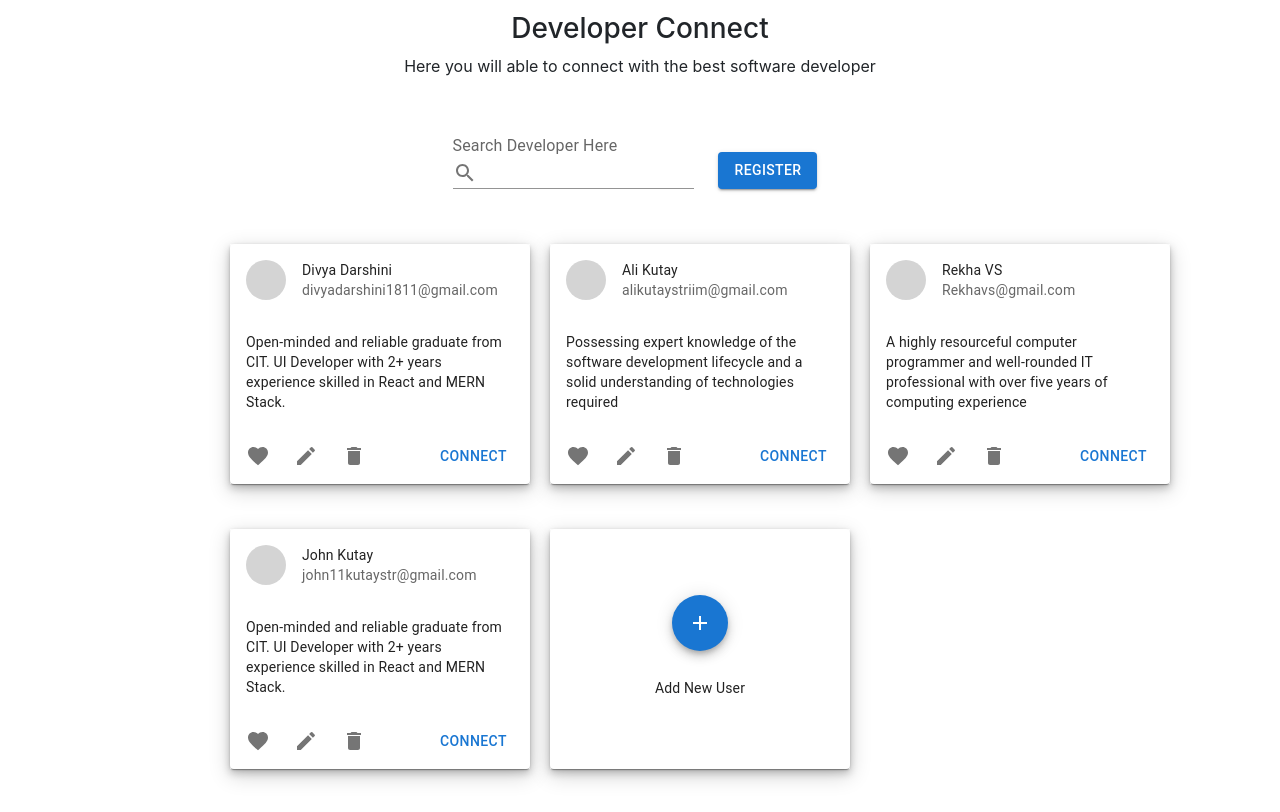
Search Test › Searching "Divia"
The width and height of the screenshot is (1280, 812).
Type "Divia" into the field with id "searchdev". click: (590, 173)
box: top-left (485, 157), bottom-right (695, 189)
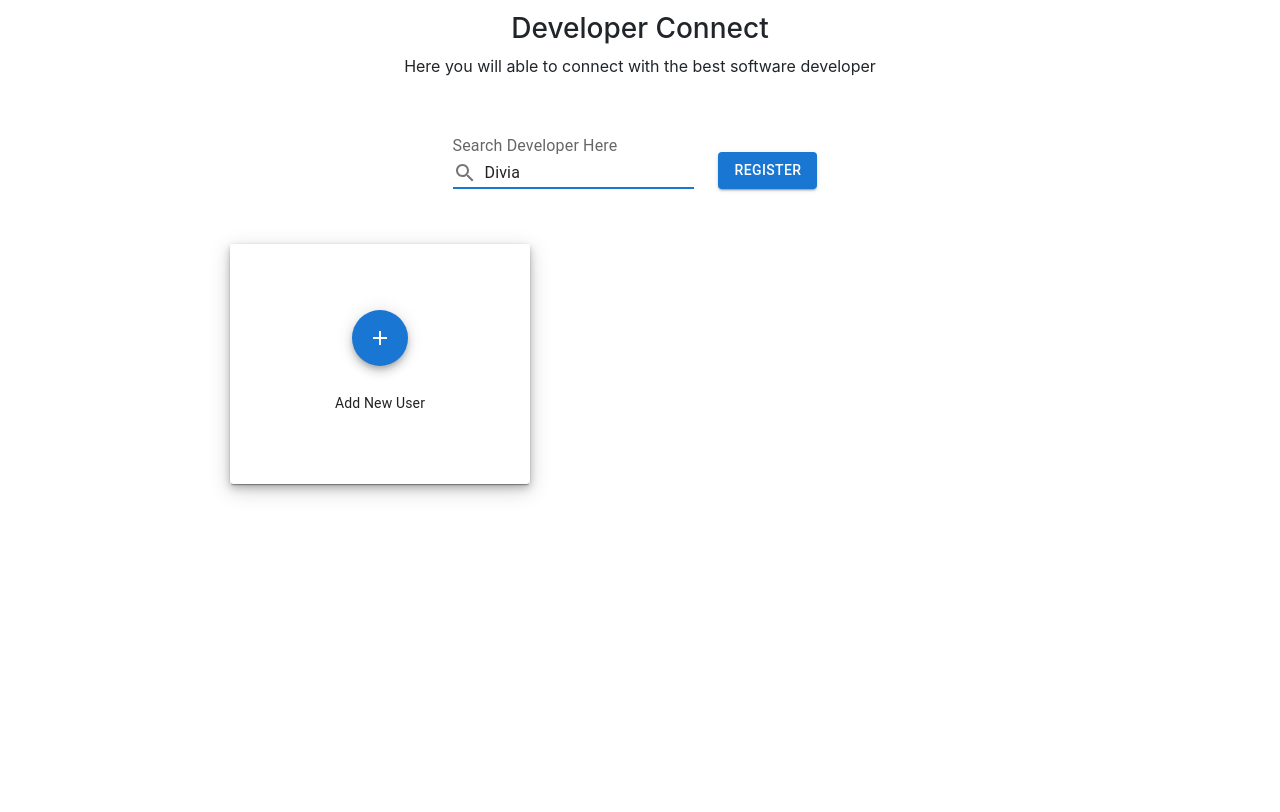
Check: no elements with class "userlist" are shown
